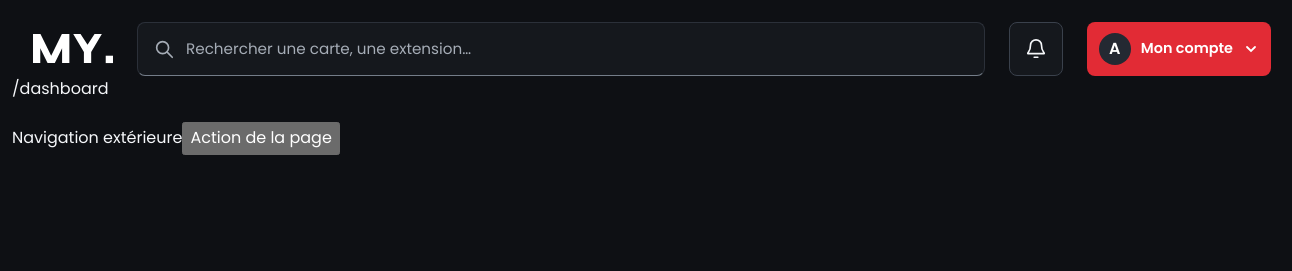
Tab ferme et laisse le navigateur poursuivre le focus (shift=false)
The width and height of the screenshot is (1292, 271).
Click the button "A Mon compte": (1179, 49) [1087,22,1271,76]
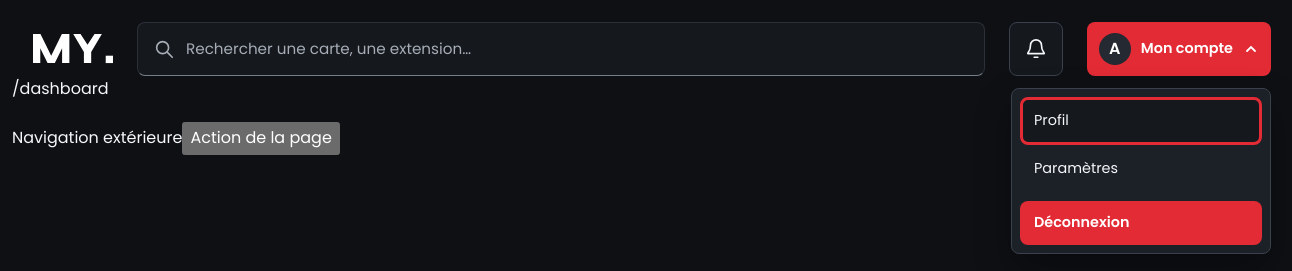
Press Tab in the menu item "Profil", box [1020,97,1262,145]
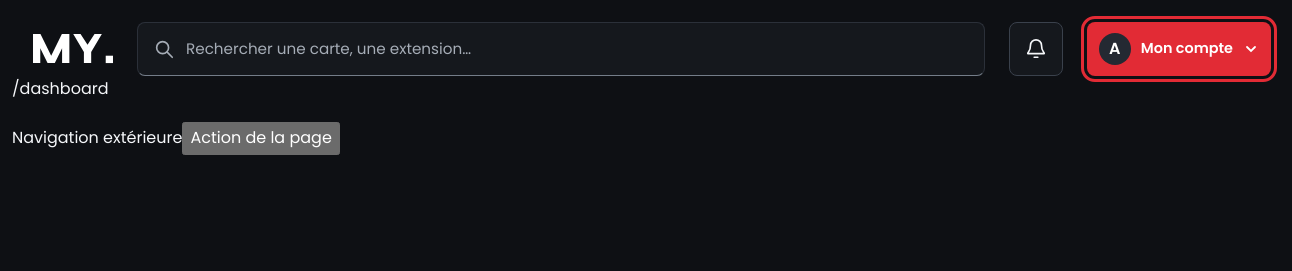
Expected: the menu is gone
